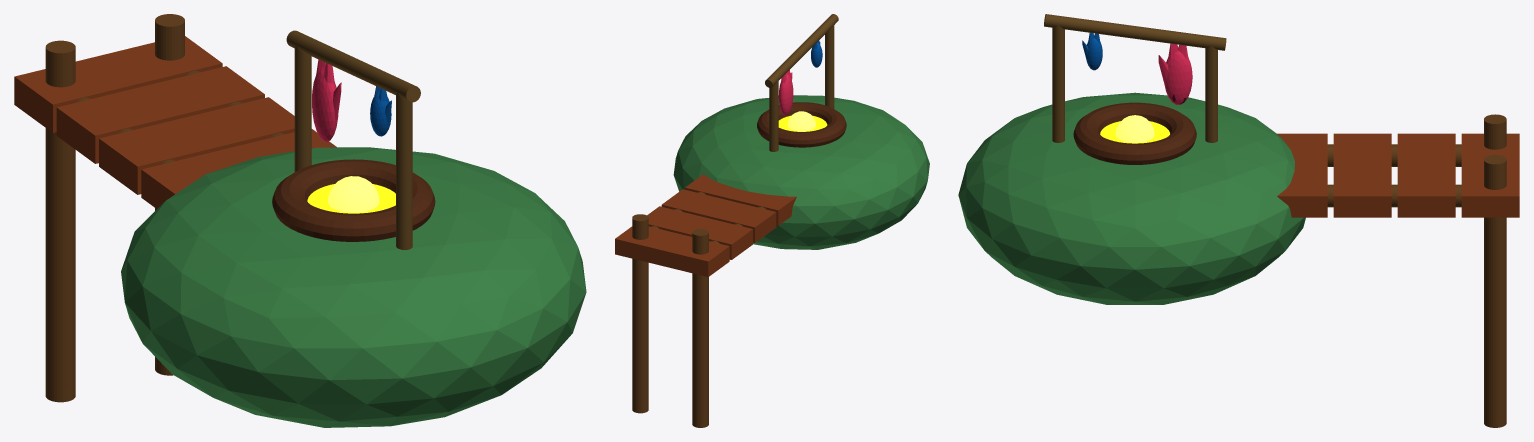
Rendered from HomelessManIsland.fbx.
3 renders of one model, left to right at view 1: azimuth 30°, elevation 25°; view 2: azimuth 150°, elevation 25°; view 3: azimuth 270°, elevation 25°, orthographic. The views are drawn at different scales.
Parts seen in each view (by area): view 1: Cylinder.001; view 2: Cylinder.001; view 3: Cylinder.001.
Boxes of the visible parts, x1=… form: Cylinder.001: x1=14, y1=14, x2=586, y2=427; Cylinder.001: x1=615, y1=14, x2=929, y2=427; Cylinder.001: x1=958, y1=14, x2=1519, y2=427.
Bounding box in the file's own units: 387 × 469 × 614.
